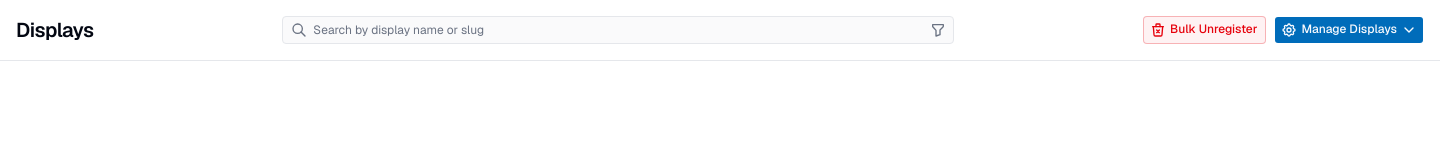
Scenario: DisplaysToolbar › register menu items respect create and manage permissions
The width and height of the screenshot is (1440, 160).
Click the button "Manage Displays". click: x=1349, y=30
box: [1274, 16, 1424, 44]
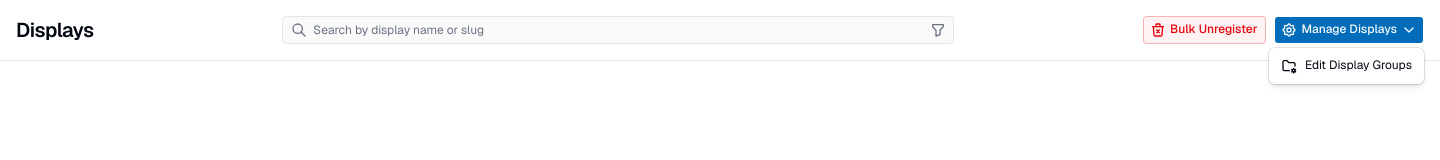
Expected: the menu item "Edit Display Groups" is shown, [1281, 57, 1412, 74]
